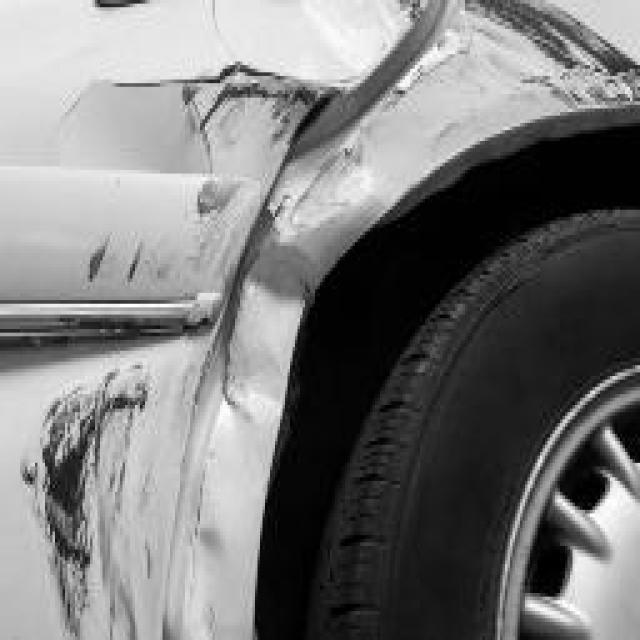Door: (2, 0, 350, 640)
Fender: (442, 0, 640, 123)
